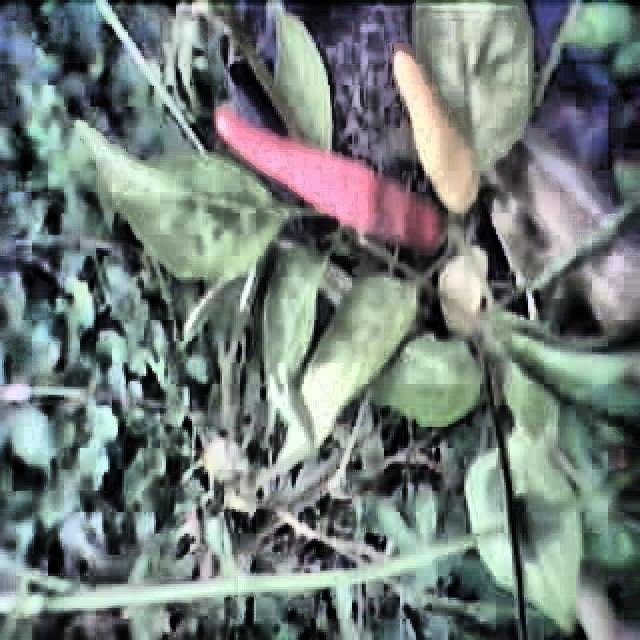Cabai: (201, 113, 398, 261), (388, 42, 500, 175)
